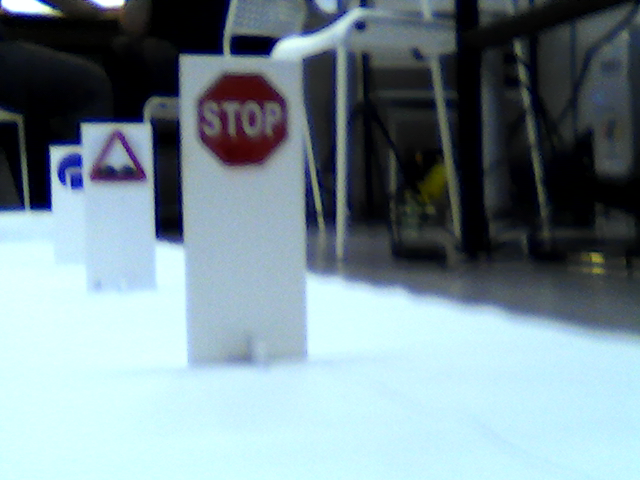Nerov: (89, 131, 147, 181)
Stop: (194, 71, 286, 168)
